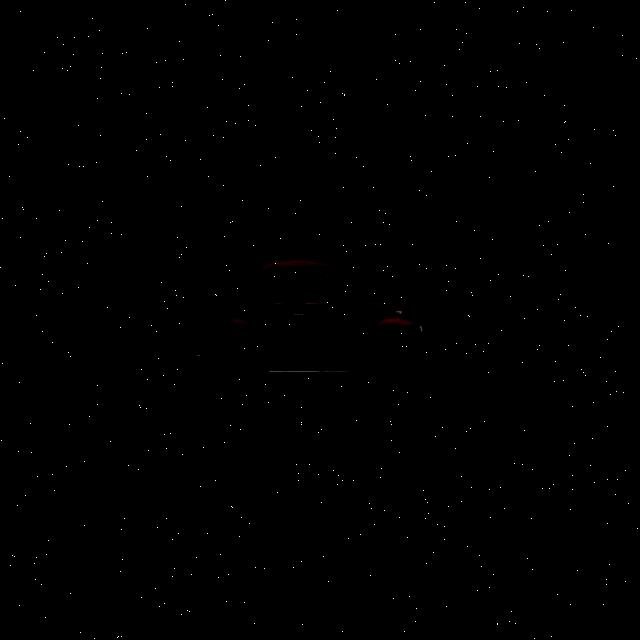car: (186, 258, 422, 398)
